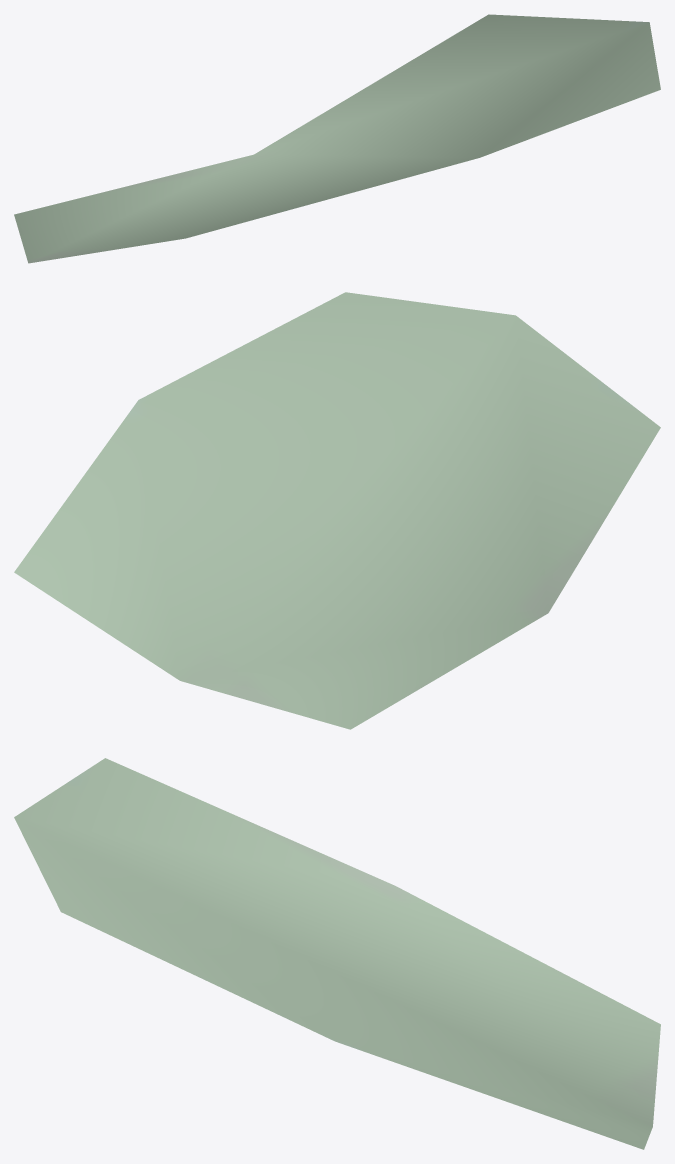
The model's file is TROLLHOLE02_HOLECAP111.fbx.
3 renders of one model, top to bottom at view 1: azimuth 30°, elevation 25°; view 2: azimuth 150°, elevation 25°; view 3: azimuth 270°, elevation 25°, orthographic. The views are drawn at different scales.
Visible parts, largest first — view 1: TROLLHOLE02_HOLECAP111; view 2: TROLLHOLE02_HOLECAP111; view 3: TROLLHOLE02_HOLECAP111.
Boxes of the visible parts, x1,y1,x2,y2 form: TROLLHOLE02_HOLECAP111: [14, 14, 660, 263]; TROLLHOLE02_HOLECAP111: [14, 292, 660, 729]; TROLLHOLE02_HOLECAP111: [14, 758, 660, 1149].
Bounding box in the file's own units: 16176 × 7300 × 16316.
1 material, 1 textured.
